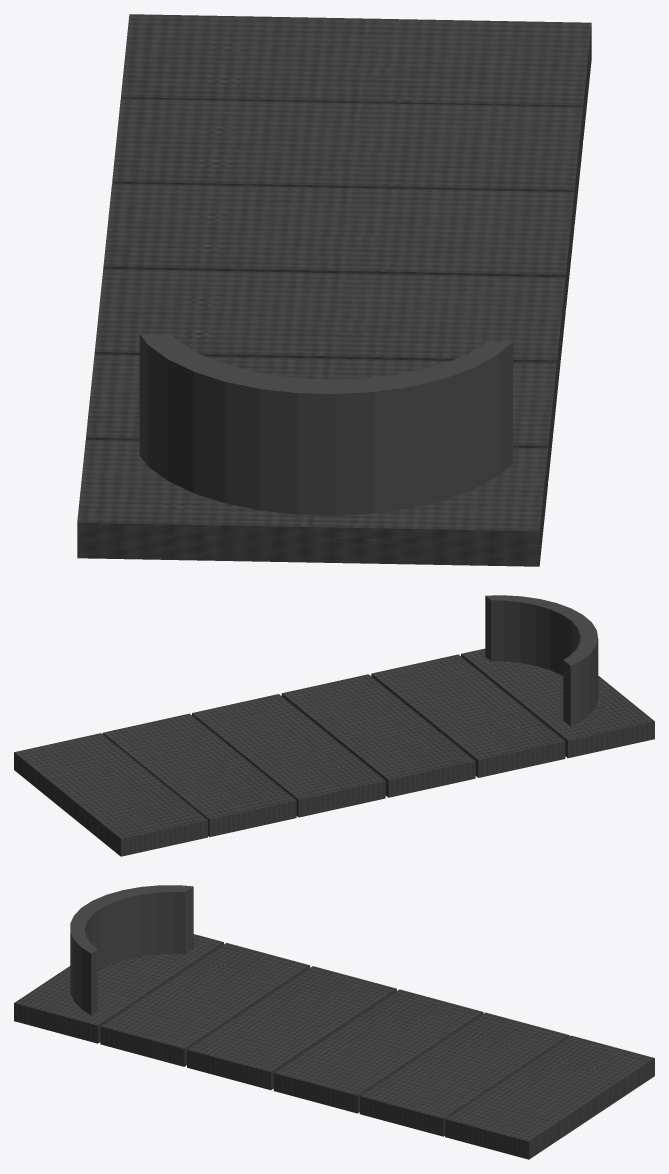
Rendered from TopConveyor.fbx.
3 renders of one model, top to bottom at view 1: azimuth 30°, elevation 25°; view 2: azimuth 150°, elevation 25°; view 3: azimuth 270°, elevation 25°, orthographic. The views are drawn at different scales.
Parts seen in each view (by area): view 1: Cylinder.001, Cube.010, Cube.001, Cube.002, Cube.009, Cube.007, Cube.008; view 2: Cube.002, Cube.008, Cube.009, Cube.010, Cube.001, Cylinder.001, Cube.007; view 3: Cube.002, Cube.008, Cube.009, Cube.010, Cube.001, Cylinder.001, Cube.007.
Part boxes in pixels (<box>): Cylinder.001: <box>139,334,512,515</box>; Cube.010: <box>103,183,574,309</box>; Cube.001: <box>112,98,582,225</box>; Cube.002: <box>121,14,591,140</box>; Cube.009: <box>94,269,565,395</box>; Cube.007: <box>77,440,547,566</box>; Cube.008: <box>86,354,556,480</box>; Cube.002: <box>14,733,207,856</box>; Cube.008: <box>371,654,565,777</box>; Cube.009: <box>281,674,475,797</box>; Cube.010: <box>192,694,385,817</box>; Cube.001: <box>102,713,296,837</box>; Cylinder.001: <box>485,595,598,726</box>; Cube.007: <box>461,648,654,758</box>; Cube.002: <box>445,1035,654,1159</box>; Cube.008: <box>100,943,310,1066</box>; Cube.009: <box>187,966,396,1090</box>; Cube.010: <box>273,989,483,1113</box>; Cube.001: <box>359,1012,569,1136</box>; Cylinder.001: <box>70,885,193,1015</box>; Cube.007: <box>14,934,223,1043</box>.
Size of the model in its own units: 522 by 87.29 by 636.
Materials: 2 (1 with a texture image).
